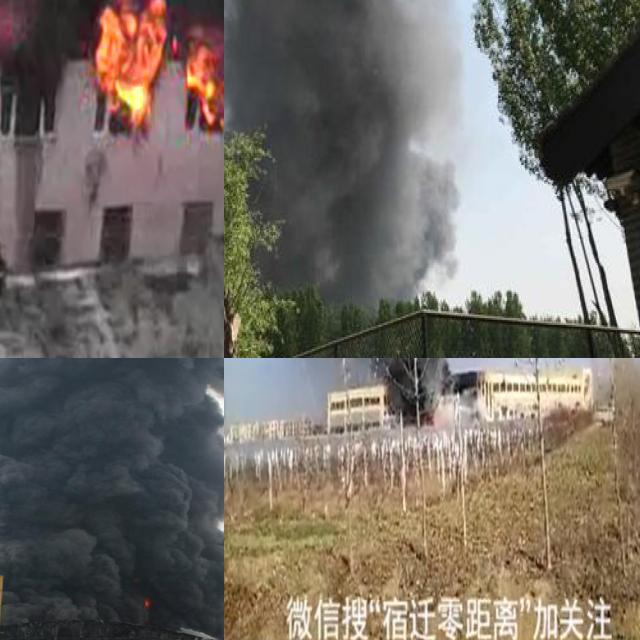fire: (93, 0, 166, 122), (182, 26, 224, 126), (141, 598, 153, 612)
smoke: (224, 0, 461, 299), (0, 358, 224, 635)
